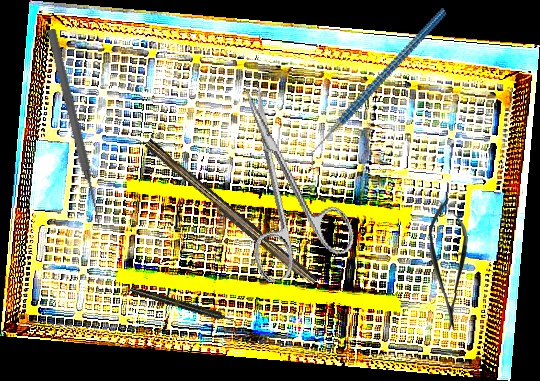Chopper: (272, 7, 483, 172)
Handpiece: (129, 284, 238, 327)
Iris Scissors: (207, 73, 361, 285)
Micro Scissor: (427, 197, 470, 332)
Pusher: (44, 27, 106, 226)
Scalpel Handle: (139, 138, 321, 289)
